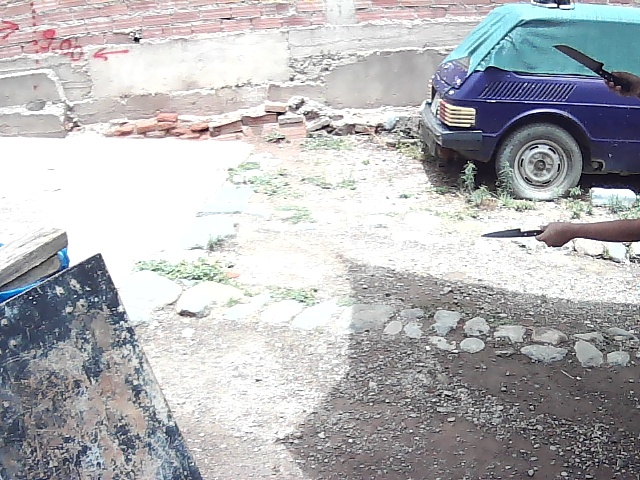cuchillo: (548, 38, 637, 95)
